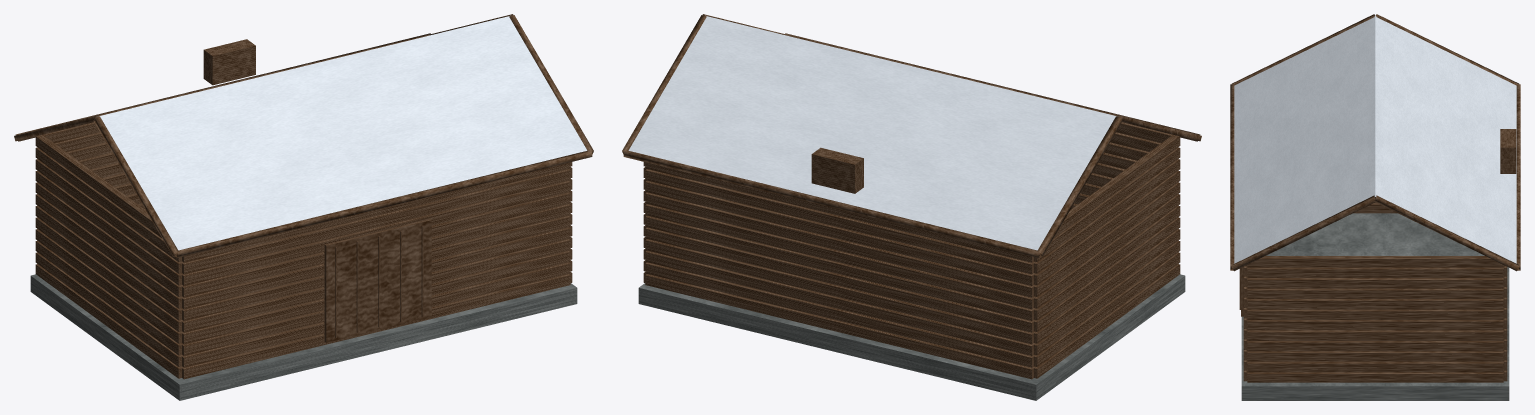
Rendered from barn.obj.
3 views of the same model, side by side, from view 1: azimuth 30°, elevation 25°; view 2: azimuth 150°, elevation 25°; view 3: azimuth 270°, elevation 25° (orthographic). The views are drawn at different scales.
Parts seen in each view (by area): view 1: barn; view 2: barn; view 3: barn.
Boxes of the visible parts, <box> form: barn: <box>14,14,593,400</box>; barn: <box>622,14,1201,400</box>; barn: <box>1230,14,1520,400</box>.
Bounding box in the file's own units: 13.56 × 7.17 × 9.06.
Materials: 8 (8 with a texture image).
